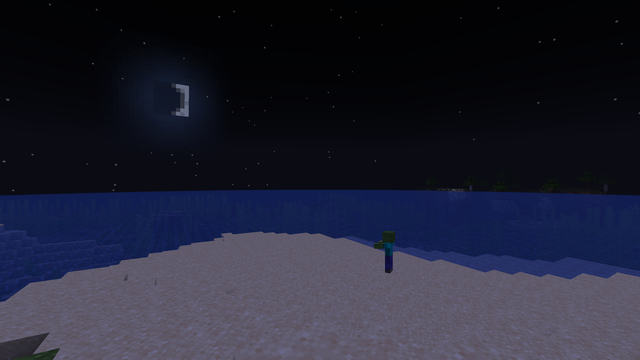zombies: (380, 231, 397, 274)
